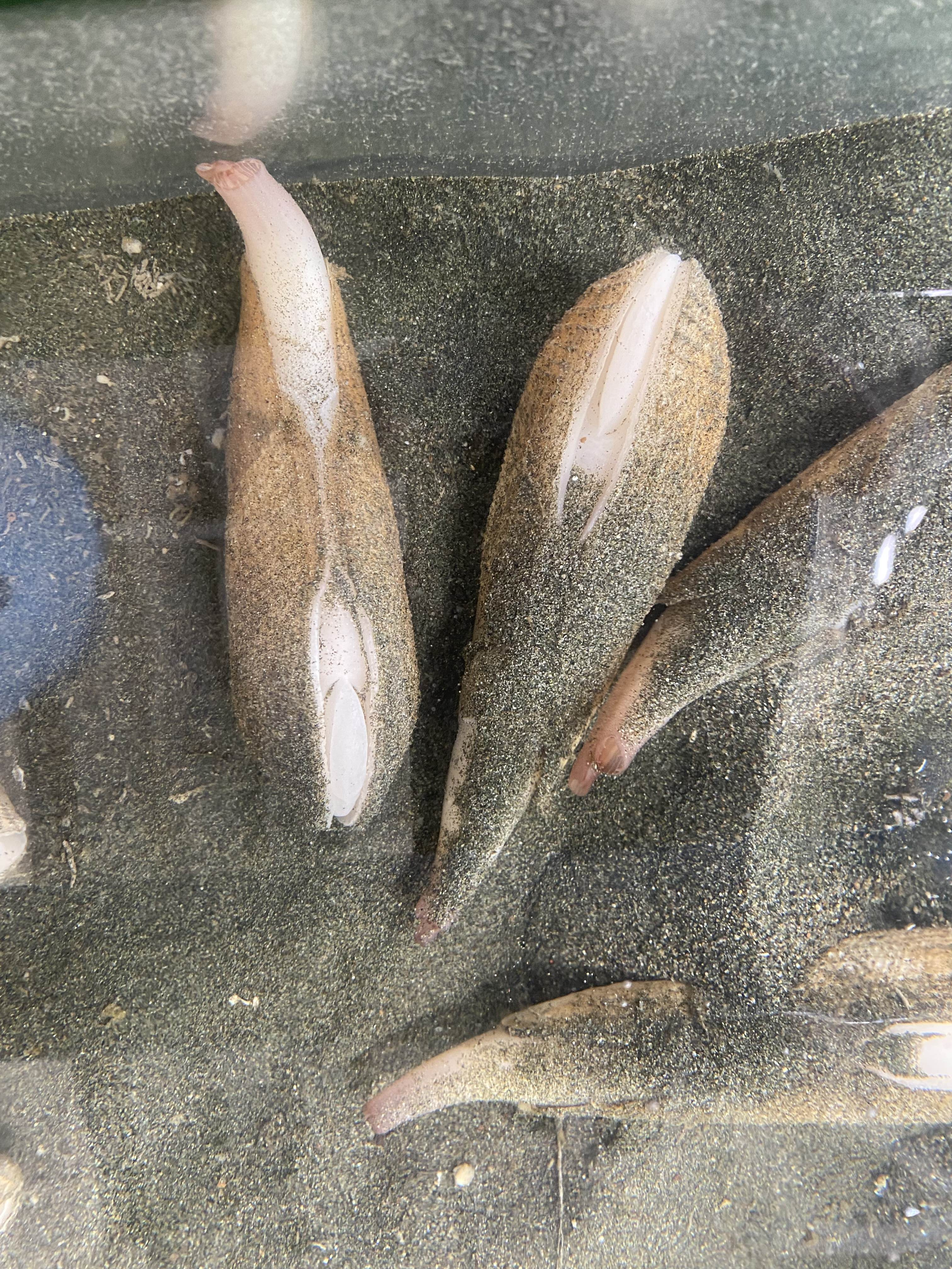Healthy: (416, 249, 730, 942), (572, 364, 952, 793), (197, 159, 417, 828), (364, 928, 952, 1136)
